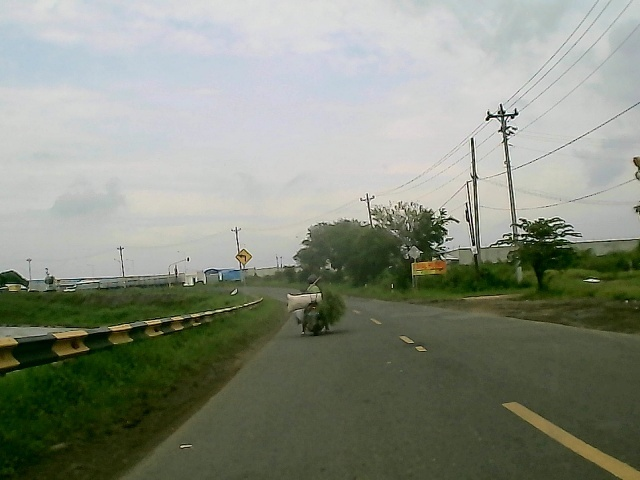Tikungan tajam ke kiri: (234, 247, 253, 269)
